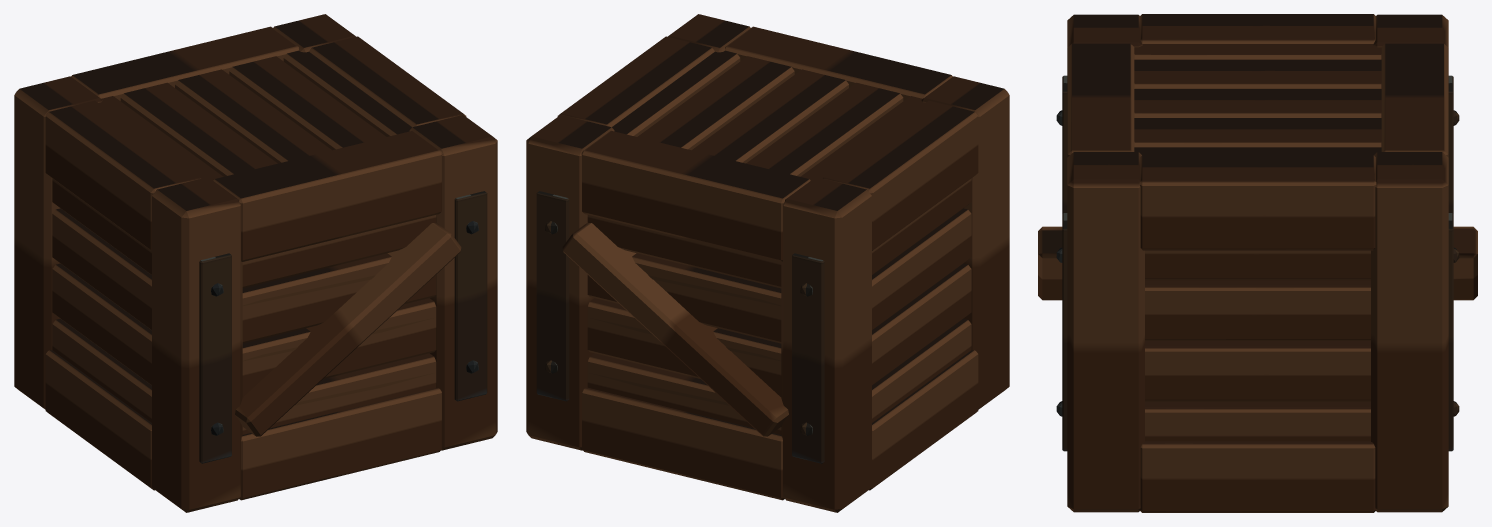
Rendered from Crate_Small.fbx.
3 renders of one model, left to right at view 1: azimuth 30°, elevation 25°; view 2: azimuth 150°, elevation 25°; view 3: azimuth 270°, elevation 25°, orthographic. The views are drawn at different scales.
Parts seen in each view (by area): view 1: Crate_Small; view 2: Crate_Small; view 3: Crate_Small.
Boxes of the visible parts, bbox=[...] form: Crate_Small: bbox=[14, 14, 497, 512]; Crate_Small: bbox=[526, 14, 1009, 512]; Crate_Small: bbox=[1038, 14, 1477, 512].
Size of the model in its own units: 0.57 by 0.52 by 0.623.
2 materials, 2 textured.
